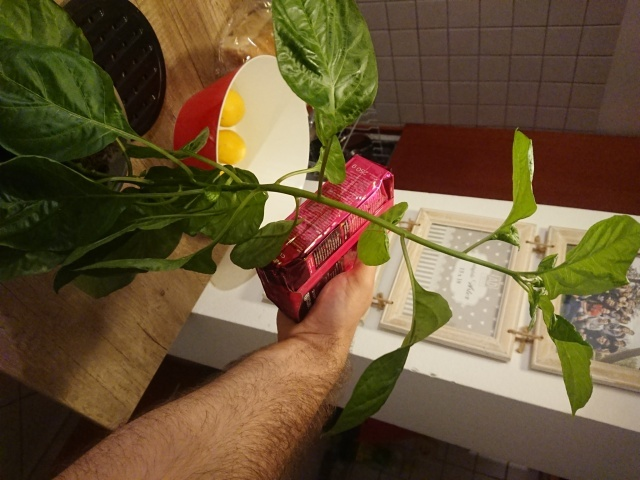Barcaffe Classic Original 225g: (250, 152, 398, 326)
